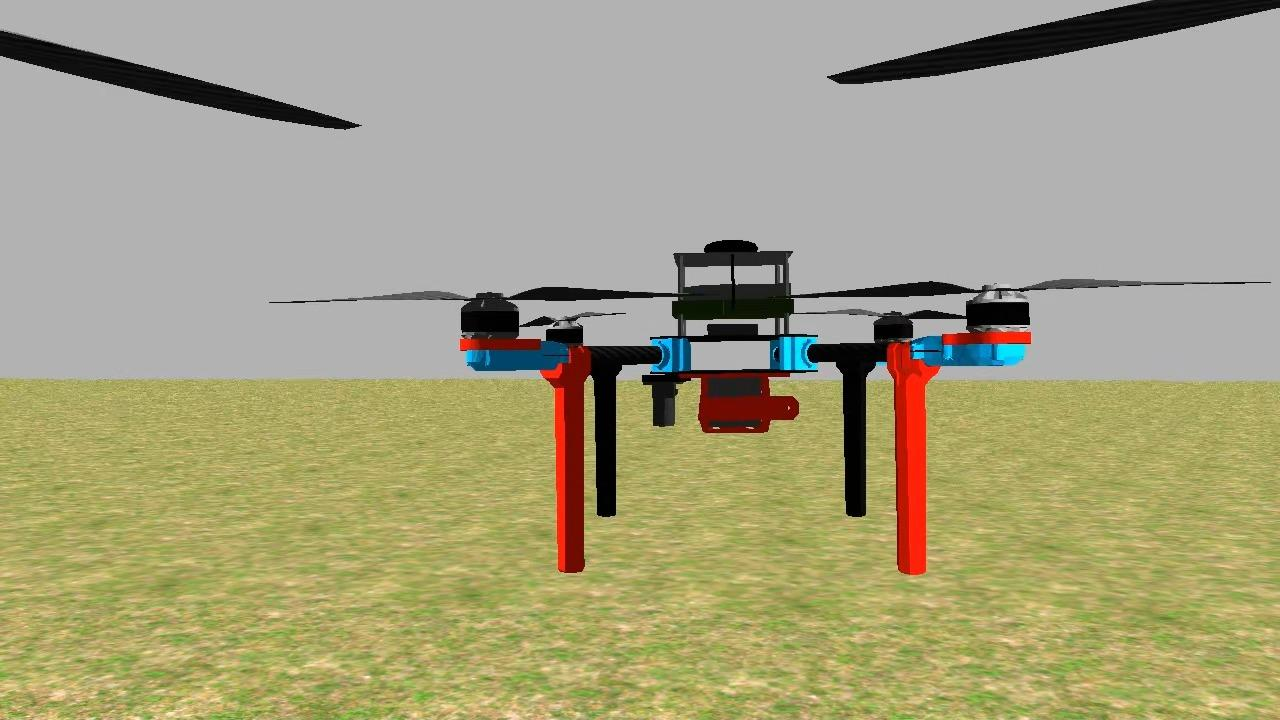UAV: (444, 220, 1039, 590)
